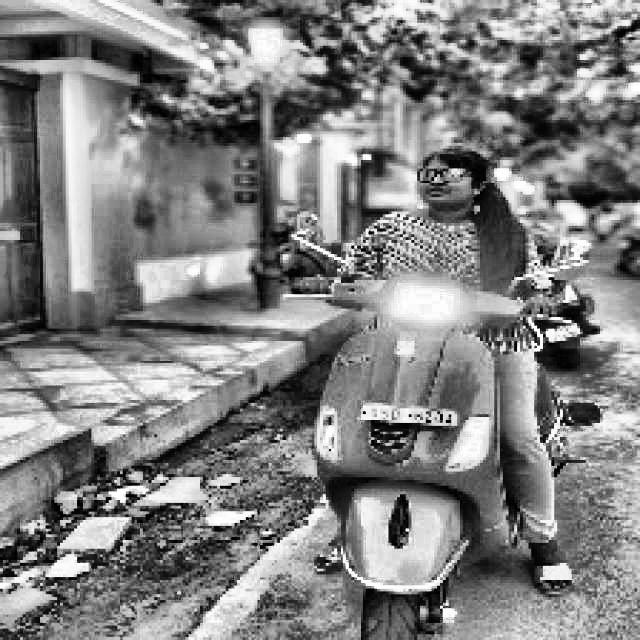motorcycle: (262, 199, 605, 640)
